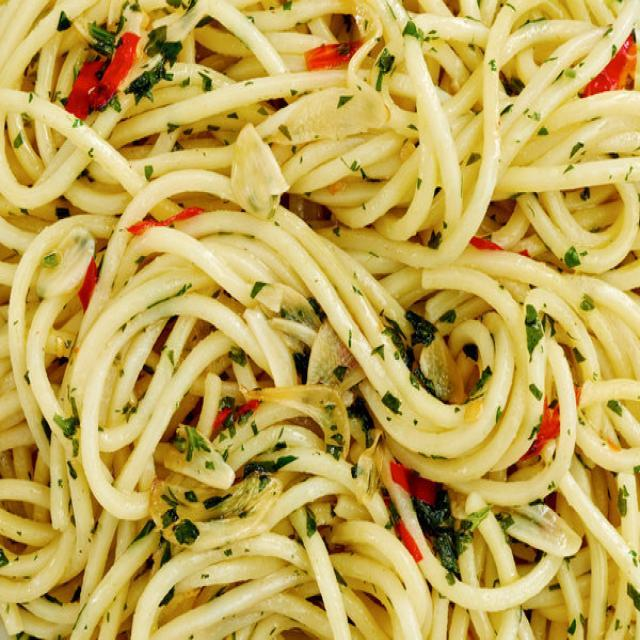Oil pasta: (16, 28, 640, 640)
